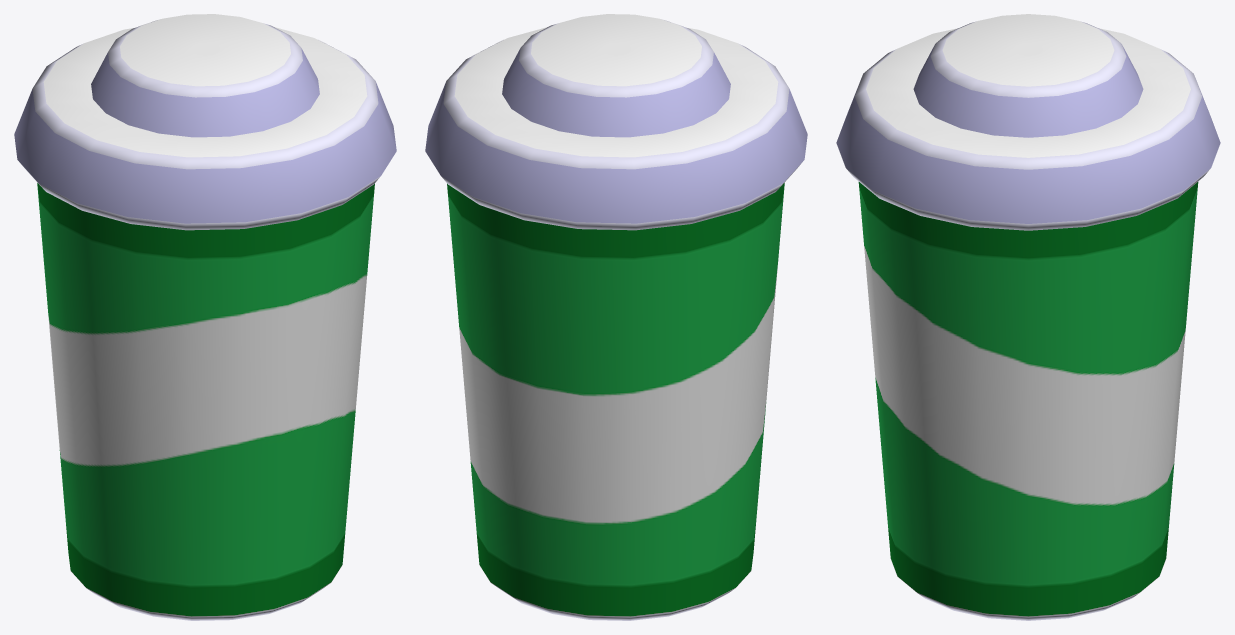
Rendered from Fiz_Cup.fbx.
3 renders of one model, left to right at view 1: azimuth 30°, elevation 25°; view 2: azimuth 150°, elevation 25°; view 3: azimuth 270°, elevation 25°, orthographic.
Visible parts, largest first — view 1: Fizz_Cup; view 2: Fizz_Cup; view 3: Fizz_Cup.
Part boxes in pixels (x1,y1,x2,y2): Fizz_Cup: (14,14,396,620); Fizz_Cup: (425,14,807,620); Fizz_Cup: (836,14,1220,620).
Size of the model in its own units: 110 by 163 by 110.
Materials: 1 (1 with a texture image).
